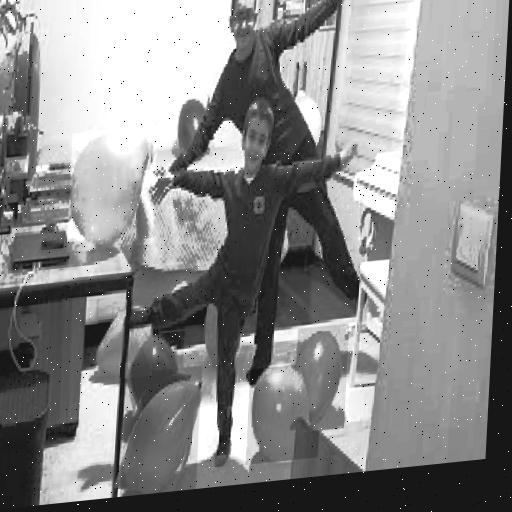balloon: (67, 125, 158, 252), (120, 366, 202, 497), (245, 362, 322, 464), (293, 323, 349, 434), (122, 331, 185, 416), (95, 297, 156, 382), (175, 89, 216, 161)
